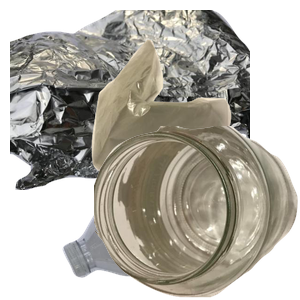glass: (94, 126, 300, 300)
metal: (10, 10, 250, 190)
plastic: (60, 190, 300, 280)
trash: (89, 37, 300, 213)
